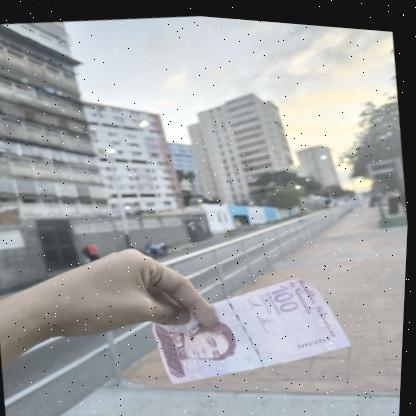one_hundred-front-vef: (147, 256, 361, 394)
